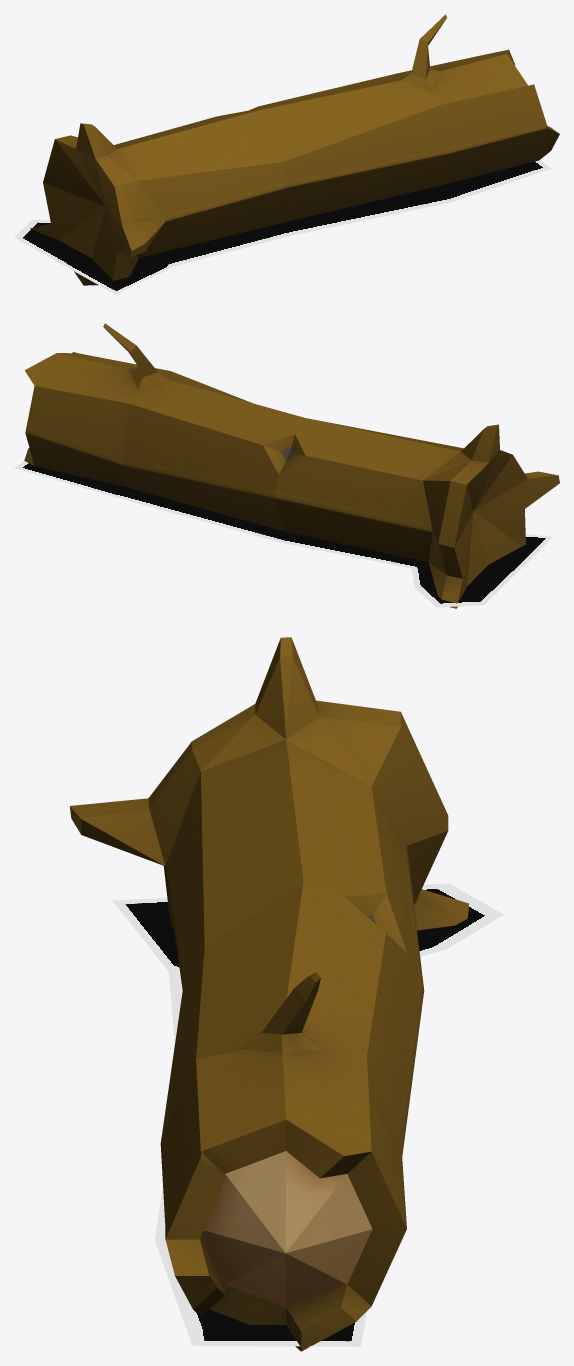
Rendered from 5x2_fallen_tree.FBX.
3 renders of one model, top to bottom at view 1: azimuth 30°, elevation 25°; view 2: azimuth 150°, elevation 25°; view 3: azimuth 270°, elevation 25°, orthographic. The views are drawn at different scales.
Visible parts, largest first — view 1: 5x2_fallen_tree, 5x2_fallen_tree_soft_shadow; view 2: 5x2_fallen_tree, 5x2_fallen_tree_soft_shadow; view 3: 5x2_fallen_tree, 5x2_fallen_tree_soft_shadow.
Boxes of the visible parts, x1=… form: 5x2_fallen_tree: x1=30, y1=14, x2=559, y2=285; 5x2_fallen_tree_soft_shadow: x1=14, y1=160, x2=551, y2=294; 5x2_fallen_tree: x1=24, y1=323, x2=559, y2=608; 5x2_fallen_tree_soft_shadow: x1=14, y1=461, x2=552, y2=607; 5x2_fallen_tree: x1=69, y1=637, x2=468, y2=1351; 5x2_fallen_tree_soft_shadow: x1=112, y1=883, x2=503, y2=1346.
Bounding box in the file's own units: 5226 × 1835 × 2058.
